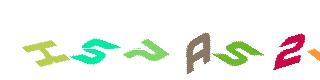2: (160, 0, 240, 80)
3: (197, 0, 277, 80)
7: (113, 0, 193, 80)
A: (113, 0, 193, 80)
K: (47, 0, 127, 80)
L: (239, 0, 319, 80)
S: (54, 0, 134, 80), (117, 0, 197, 80)
